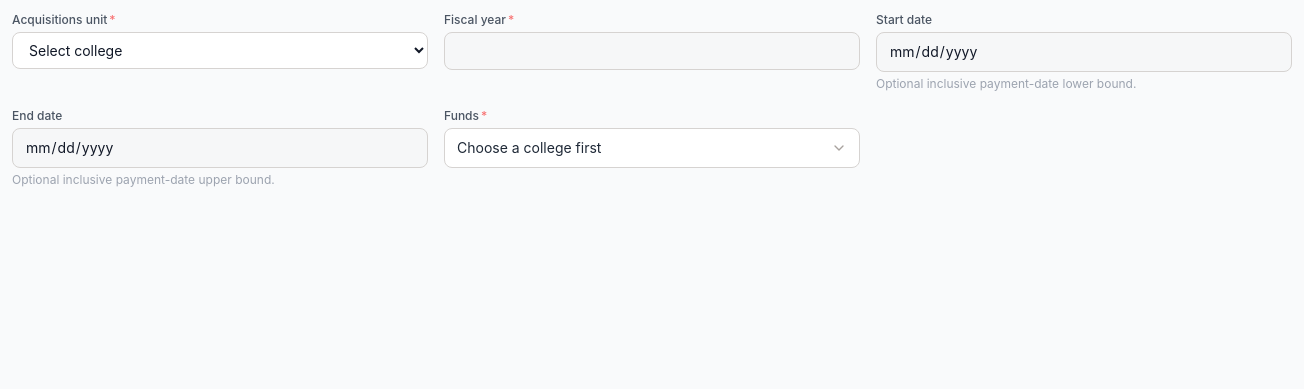
Test: BudgetYearExpenseClassParameters › loads the selected unit fiscal year and clears Smith funds for another college
Select "Smith College (SC)" in the dropdown labelled "Acquisitions unit*" at [220, 50], box [12,32,428,69]
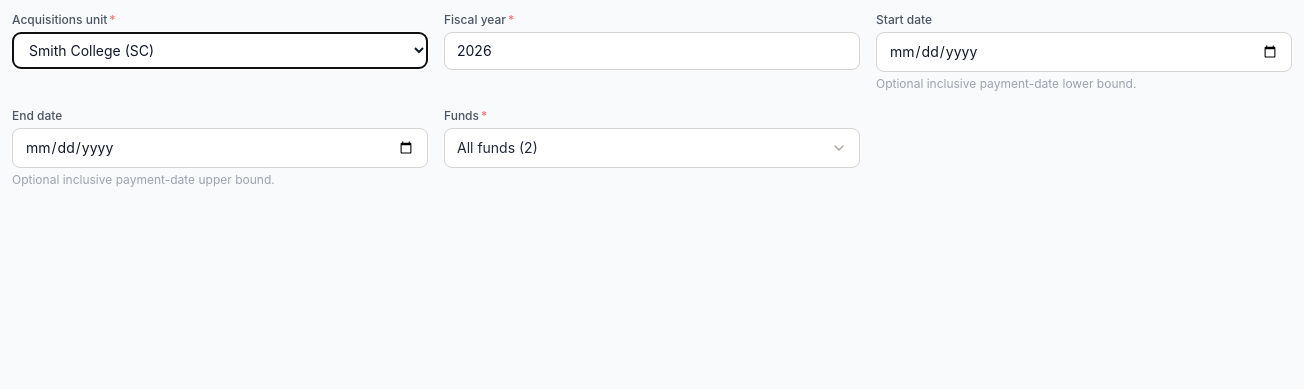
Check: the date field labelled "End date" is empty, box [12,128,428,168]
Check: the number field labelled "Fiscal year*" holds "2026", box [444,32,860,70]
Type "2025-07-01" into the date field labelled "Start date".
click(1084, 52); type("2025-07-01")  # box [876,32,1292,72]
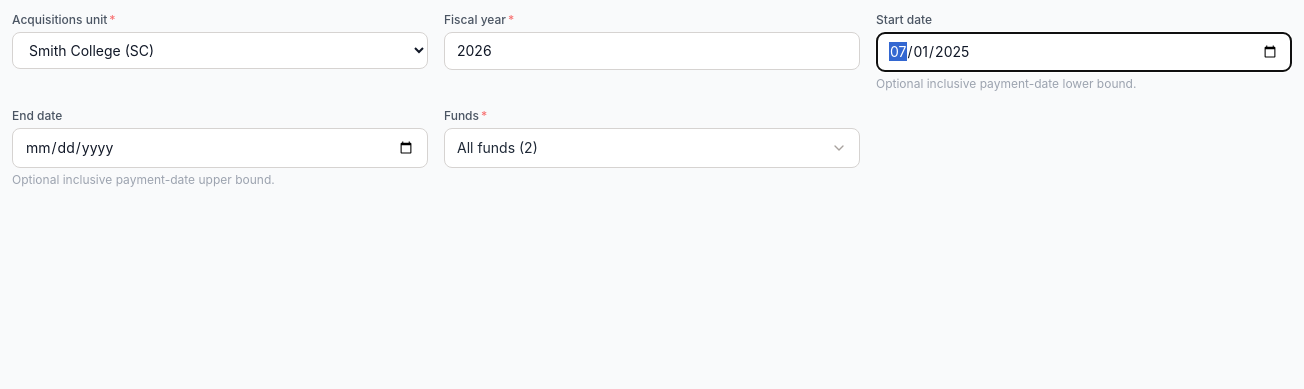
Clear the date field labelled "Start date" at [1084, 52], box [876,32,1292,72]
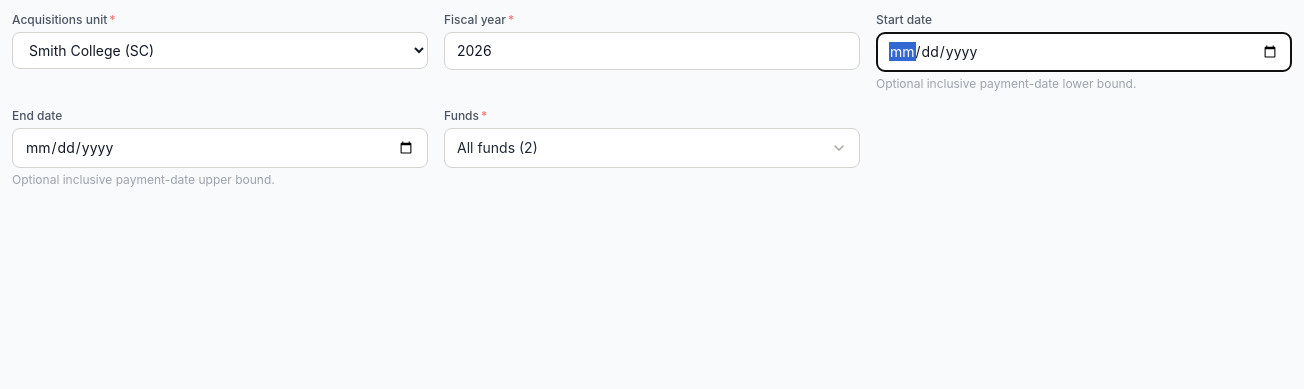
Check: the button with aria-label "2 funds: SCBPS, SCBIS" reads "All funds (2)"
Click the button with aria-label "2 funds: SCBPS, SCBIS".
click(497, 148)  # box [444,128,860,168]
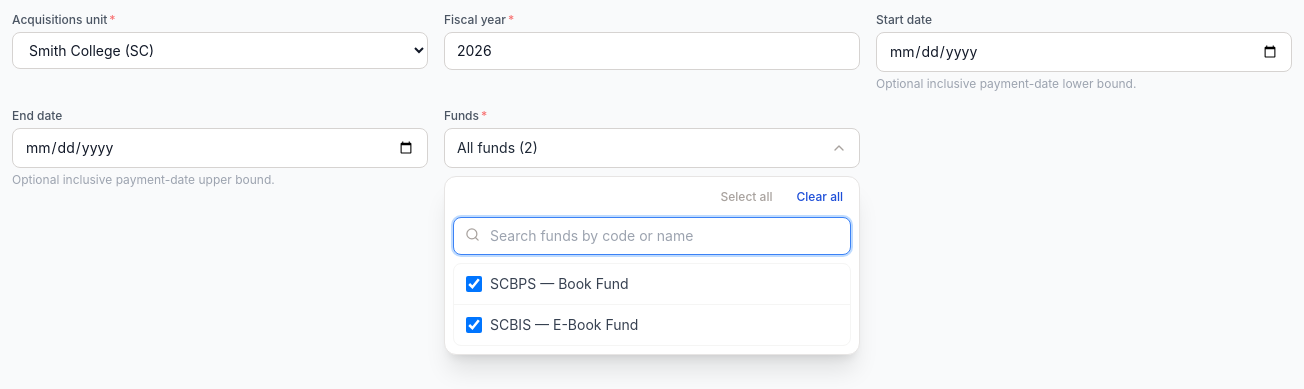
Check: the list is shown, box [453,263,851,346]
Select "Mount Holyoke College (MH)" in the dropdown labelled "Acquisitions unit*" at [220, 50], box [12,32,428,69]
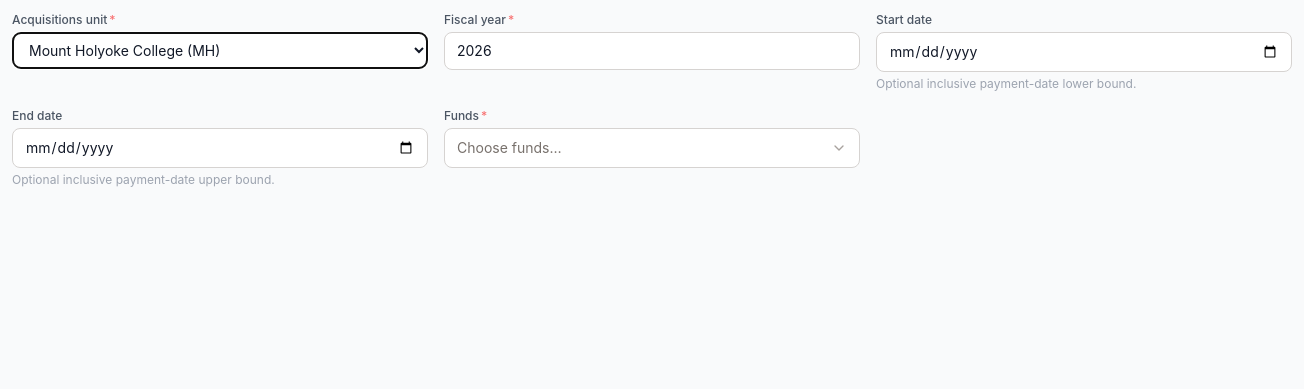
Check: the button "Choose funds…" is shown
Check: the list is gone
Click the button "Choose funds…".
click(509, 148)  # box [444,128,860,168]
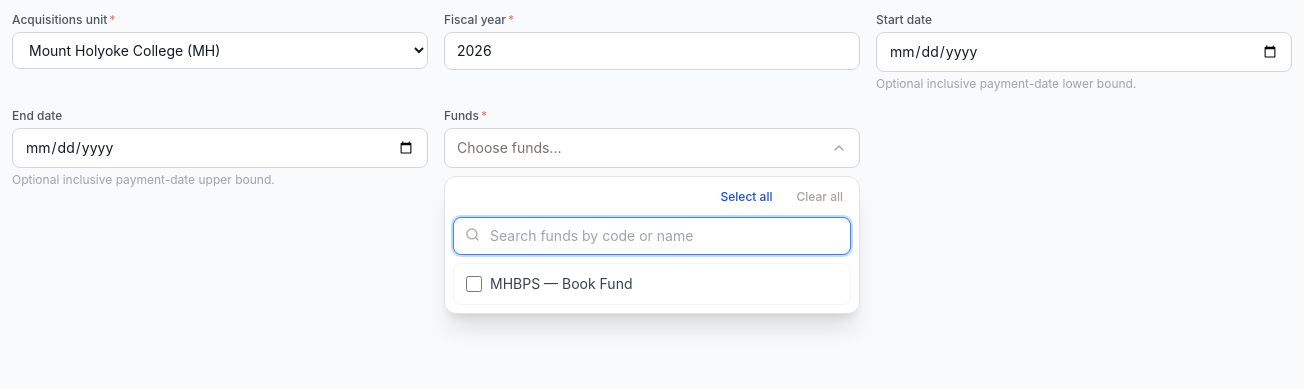
Check: the option "SCBPS" is not shown
Check: the checkbox labelled "MHBPS — Book Fund" is shown, box [466,276,482,292]
